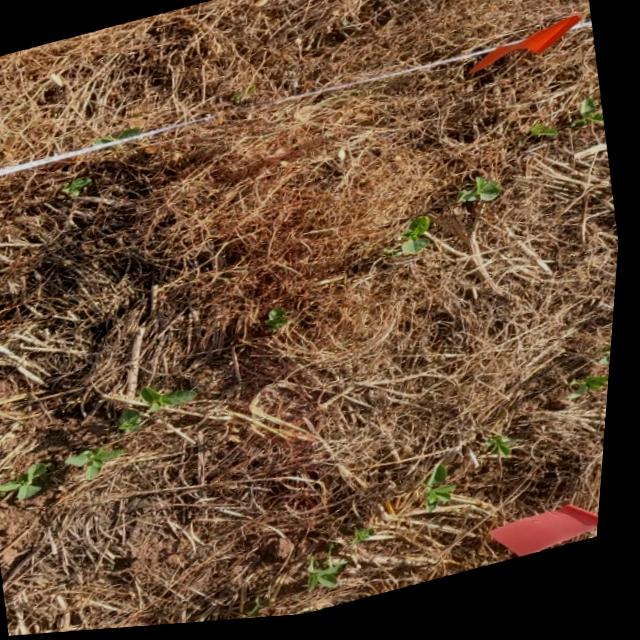soy_plant: (124, 388, 202, 435), (0, 463, 58, 500), (72, 447, 128, 481), (319, 552, 359, 594), (431, 468, 463, 519), (406, 221, 435, 261), (463, 185, 505, 209), (575, 384, 615, 407), (571, 109, 606, 134), (492, 441, 526, 466), (66, 176, 94, 199), (255, 601, 280, 620), (362, 532, 385, 548), (274, 313, 292, 332), (535, 132, 563, 143), (120, 131, 141, 139), (605, 362, 617, 373), (98, 139, 118, 145)
